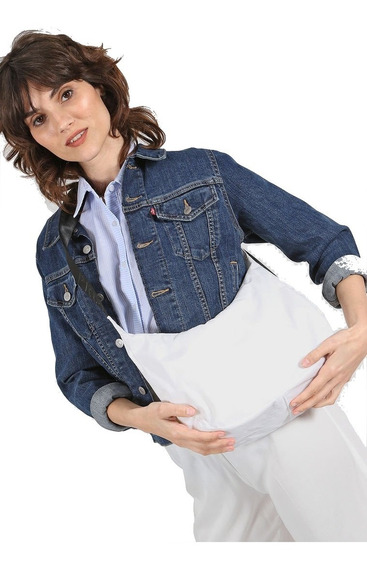cartera: (101, 257, 341, 453)
